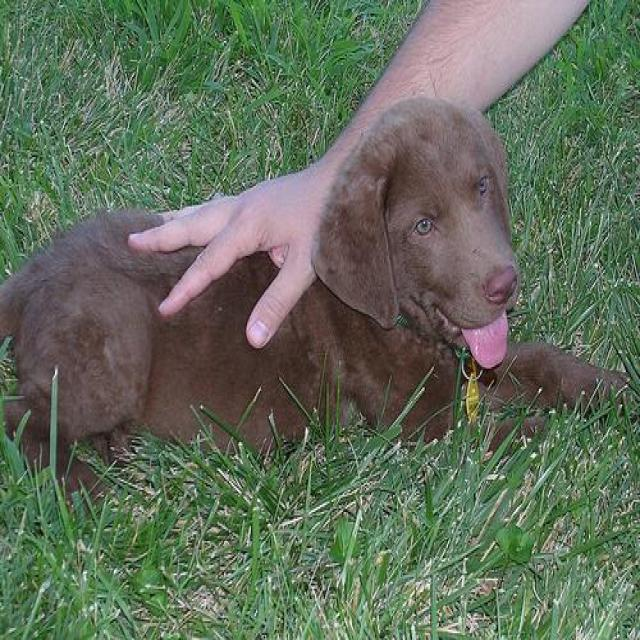happy: (322, 51, 556, 428)
